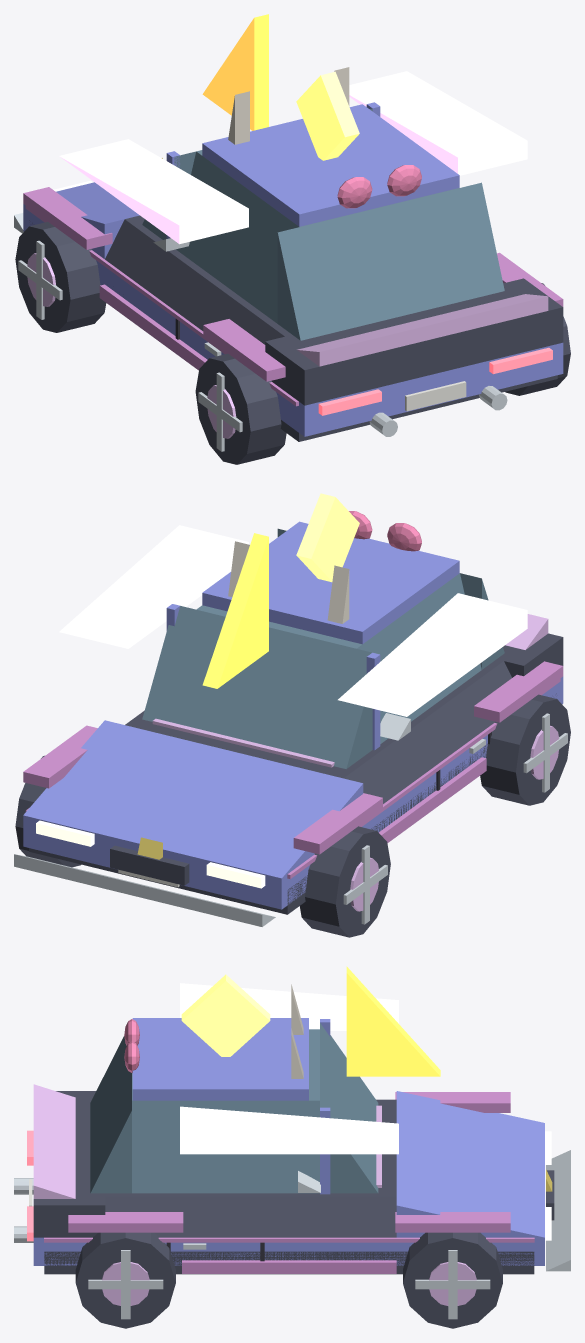
File: phoenix_phantom.glb
The picture shows the model from 3 angles, top to bottom: view 1: azimuth 30°, elevation 25°; view 2: azimuth 150°, elevation 25°; view 3: azimuth 270°, elevation 25°; orthographic projection. The views are drawn at different scales.
Parts seen in each view (by area): view 1: RearWindow.228, Roof.328, Tail.131, Wing_L.012, Wing_R.012, Body.328, CabinSideL.125, ShoulderL.125, Wheel_RL.268, Wheel_FL.268, Ducktail.085, PhoenixCrest.002 (+20 smaller); view 2: Nose.125, Windshield.228, Roof.328, Wing_L.012, Wing_R.012, Body.328, ShoulderL.125, Wheel_FL.268, Wheel_RL.268, PhoenixCrest.002, Bumper.324, Star.015 (+26 smaller); view 3: Nose.125, Roof.328, CabinSideR.125, ShoulderR.125, Wing_R.012, Wheel_FR.268, Wheel_RR.268, PhoenixCrest.002, Body.328, RearWindow.228, Windshield.228, Ducktail.085 (+19 smaller).
Part boxes in pixels (x1,y1,x2,y2): RearWindow.228: (277,182,504,340); Roof.328: (202,104,459,226); Tail.131: (265,278,563,405); Wing_L.012: (59,139,248,244); Wing_R.012: (349,71,527,175); Body.328: (23,204,563,436); CabinSideL.125: (176,151,298,323); ShoulderL.125: (105,219,284,344); Wheel_RL.268: (195,353,286,464); Wheel_FL.268: (15,222,106,332); Ducktail.085: (297,294,548,366); PhoenixCrest.002: (202,14,268,130); Nose.125: (23,720,363,878); Windshield.228: (142,606,372,768); Roof.328: (202,521,459,644); Wing_L.012: (338,593,527,716); Wing_R.012: (59,525,248,648); Body.328: (23,676,563,909); ShoulderL.125: (344,661,511,803); Wheel_FL.268: (299,826,390,937); Wheel_RL.268: (480,694,570,805); PhoenixCrest.002: (202,533,268,688); Bumper.324: (14,854,275,926); Star.015: (296,493,359,582); Nose.125: (396,1091,544,1237); Roof.328: (132,1018,308,1100); CabinSideR.125: (132,1100,319,1193); ShoulderR.125: (105,1196,396,1237); Wing_R.012: (180,1106,398,1154); Wheel_FR.268: (403,1232,502,1328); Wheel_RR.268: (75,1232,175,1328); PhoenixCrest.002: (346,966,440,1076); Body.328: (33,1237,544,1265); RearWindow.228: (90,1036,131,1193); Windshield.228: (320,1023,378,1193); Ducktail.085: (33,1084,75,1198).
Size of the model in its own units: 3.5 by 3.05 by 5.34.
